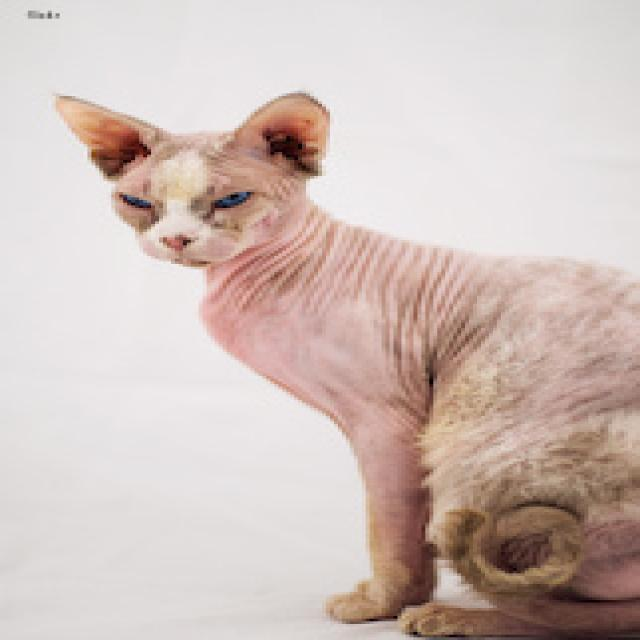Sphynx: (44, 83, 332, 271)
